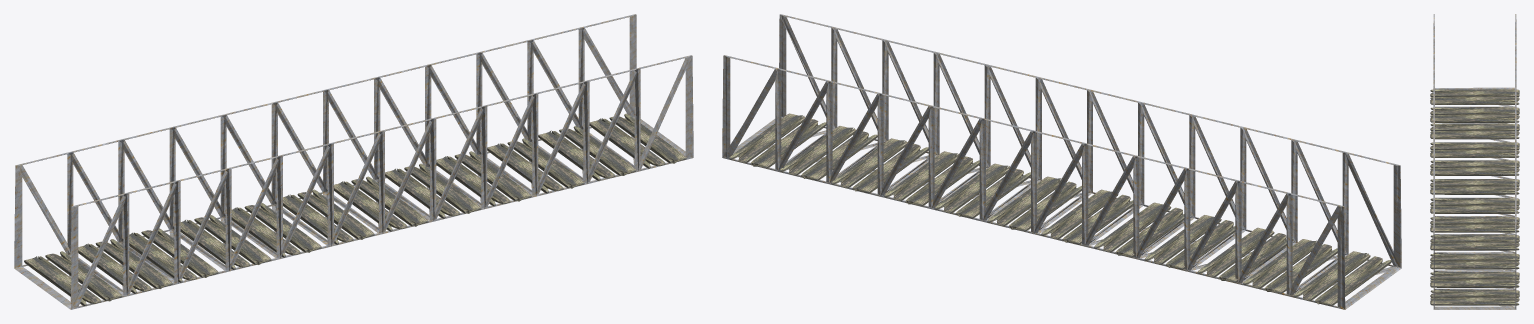
The model's file is bridge.glb.
3 renders of one model, left to right at view 1: azimuth 30°, elevation 25°; view 2: azimuth 150°, elevation 25°; view 3: azimuth 270°, elevation 25°, orthographic. The views are drawn at different scales.
Parts seen in each view (by area): view 1: Cube.002, Cube.020, Cube.019, Cube.008, Cube.026, Cube.024, Cube.010, Cube.022, Cube.014, Cube.012, Cube.004, Cube.006 (+13 smaller); view 2: Cube.002, Cube.024, Cube.010, Cube.026, Cube.008, Cube.022, Cube.006, Cube.020, Cube.019, Cube.004, Cube.014, Cube.016 (+13 smaller); view 3: Cube.002, Cube.008, Cube.010, Cube.026, Cube.009, Cube.024, Cube.006, Cube.004, Cube.012, Cube.018, Cube.016, Cube.022 (+13 smaller).
Boxes of the visible parts, x1=… form: Cube.002: x1=14, y1=14, x2=693, y2=309; Cube.020: x1=45, y1=251, x2=122, y2=301; Cube.019: x1=24, y1=256, x2=101, y2=306; Cube.008: x1=454, y1=151, x2=531, y2=201; Cube.026: x1=609, y1=113, x2=686, y2=163; Cube.024: x1=559, y1=126, x2=636, y2=175; Cube.010: x1=507, y1=138, x2=584, y2=188; Cube.022: x1=95, y1=239, x2=172, y2=288; Cube.014: x1=194, y1=215, x2=271, y2=264; Cube.012: x1=141, y1=228, x2=218, y2=277; Cube.004: x1=351, y1=176, x2=428, y2=226; Cube.006: x1=404, y1=163, x2=481, y2=213; Cube.002: x1=722, y1=14, x2=1401, y2=309; Cube.024: x1=779, y1=126, x2=856, y2=175; Cube.010: x1=831, y1=138, x2=907, y2=188; Cube.026: x1=729, y1=113, x2=805, y2=163; Cube.008: x1=884, y1=151, x2=958, y2=201; Cube.022: x1=1243, y1=239, x2=1316, y2=288; Cube.006: x1=934, y1=163, x2=1009, y2=213; Cube.020: x1=1293, y1=251, x2=1370, y2=300; Cube.019: x1=1314, y1=256, x2=1391, y2=306; Cube.004: x1=987, y1=176, x2=1061, y2=226; Cube.014: x1=1144, y1=215, x2=1221, y2=264; Cube.016: x1=1094, y1=202, x2=1171, y2=252; Cube.002: x1=1433, y1=14, x2=1516, y2=309; Cube.008: x1=1430, y1=242, x2=1519, y2=250; Cube.010: x1=1430, y1=261, x2=1519, y2=269; Cube.026: x1=1430, y1=297, x2=1519, y2=305; Cube.009: x1=1430, y1=253, x2=1519, y2=261; Cube.024: x1=1430, y1=279, x2=1519, y2=287; Cube.006: x1=1430, y1=224, x2=1519, y2=232; Cube.004: x1=1430, y1=205, x2=1519, y2=213; Cube.012: x1=1430, y1=131, x2=1519, y2=139; Cube.018: x1=1430, y1=186, x2=1519, y2=194; Cube.016: x1=1430, y1=167, x2=1519, y2=175; Cube.022: x1=1430, y1=114, x2=1519, y2=122.
Bounding box in the file's own units: 2.57 × 0.4052 × 0.439.
2 materials, 2 textured.
